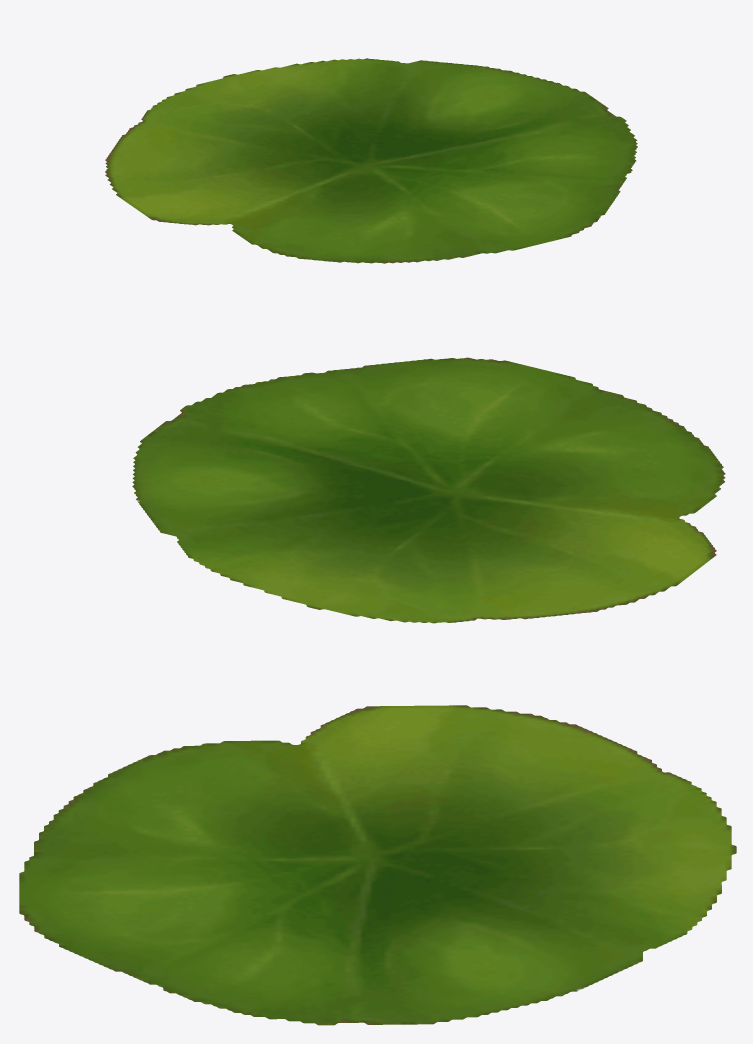
The model's file is LotusL02.FBX.
3 renders of one model, top to bottom at view 1: azimuth 30°, elevation 25°; view 2: azimuth 150°, elevation 25°; view 3: azimuth 270°, elevation 25°, orthographic. The views are drawn at different scales.
Parts seen in each view (by area): view 1: Lotus02; view 2: Lotus02; view 3: Lotus02.
Part boxes in pixels (<box>): Lotus02: <box>105,58,637,263</box>; Lotus02: <box>132,357,725,623</box>; Lotus02: <box>19,705,736,1025</box>.
Bounding box in the file's own units: 234 × 217 × 0.00027.
